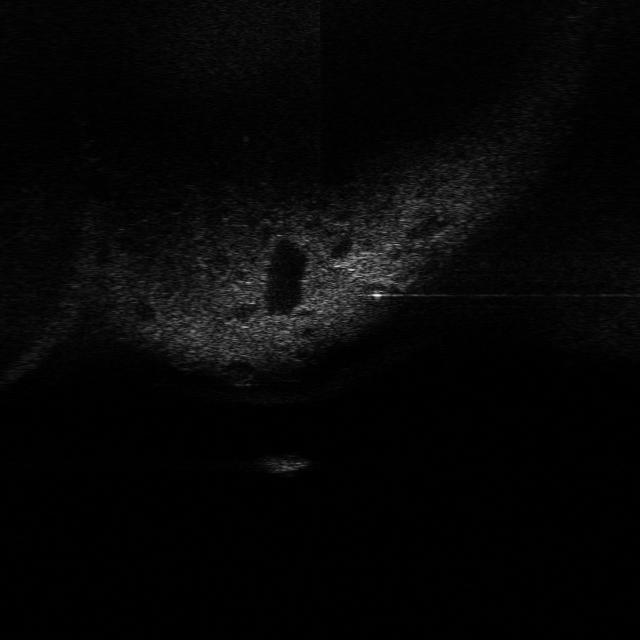cube: (254, 450, 314, 478)
